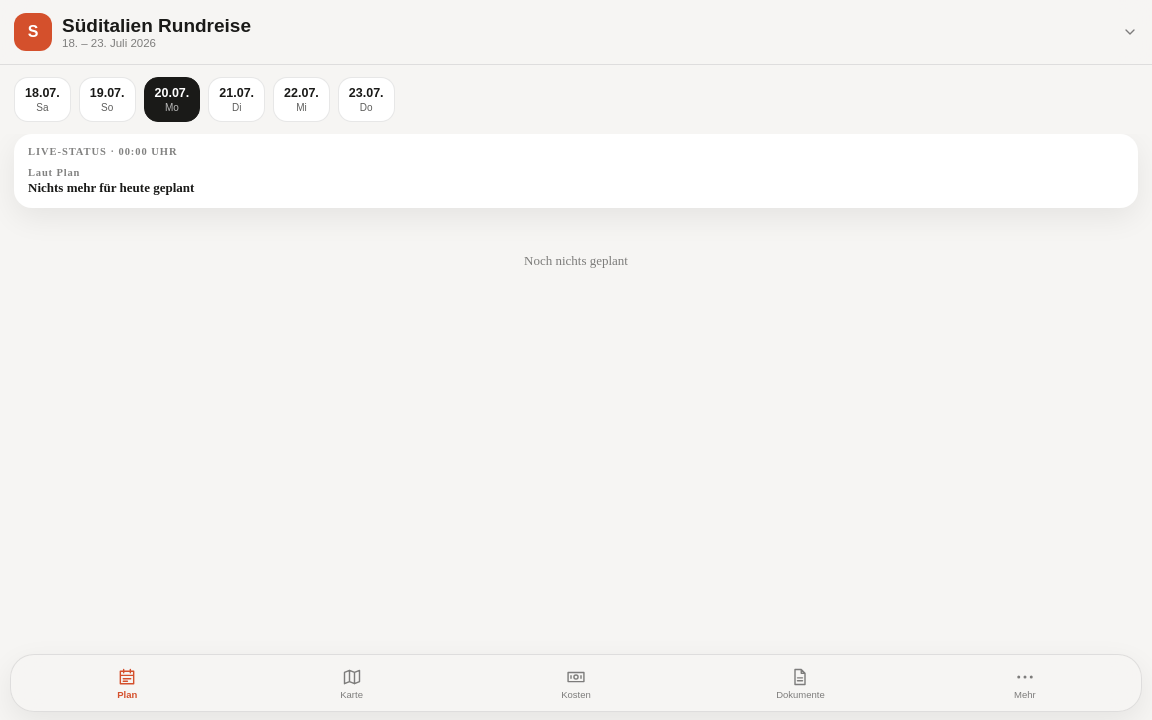
Scenario: GoView › kennzeichnet eine noch nicht begonnene Reise als "Geplant"
Click the text "Süditalien Rundreise": (156, 26) [62,15,251,37]
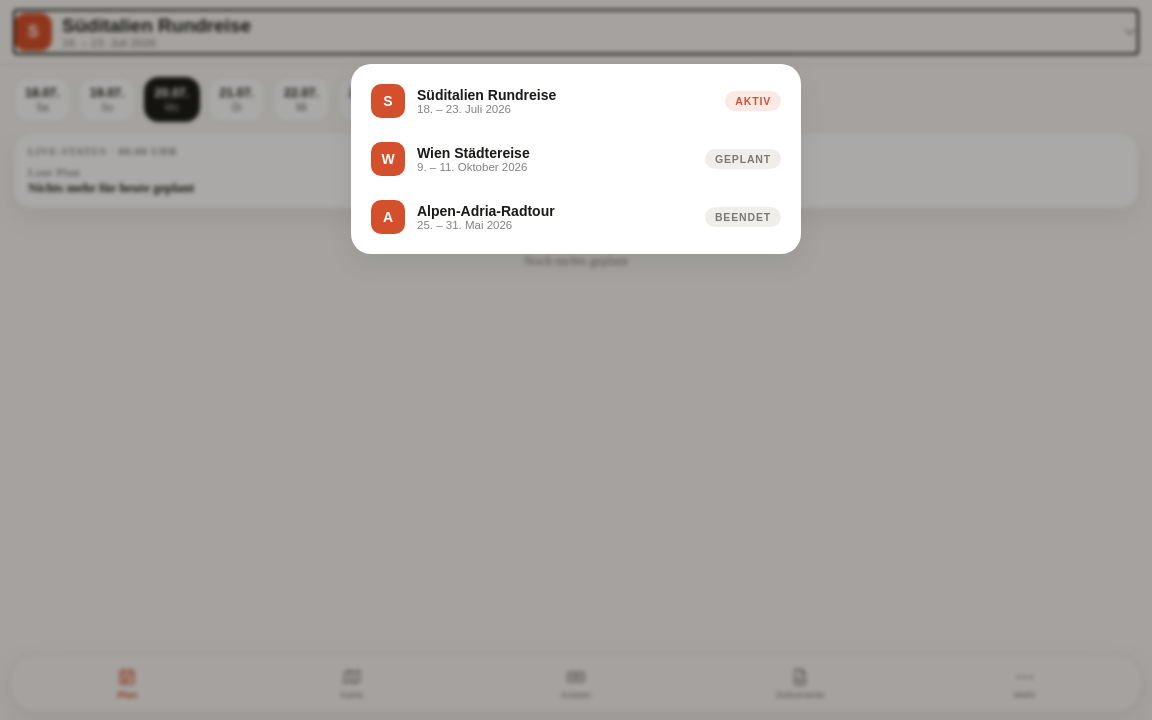
Now the button "Wien Städtereise" is shown, box [361,132,791,186]
Now the text "Geplant" is shown, box [705,149,781,169]
